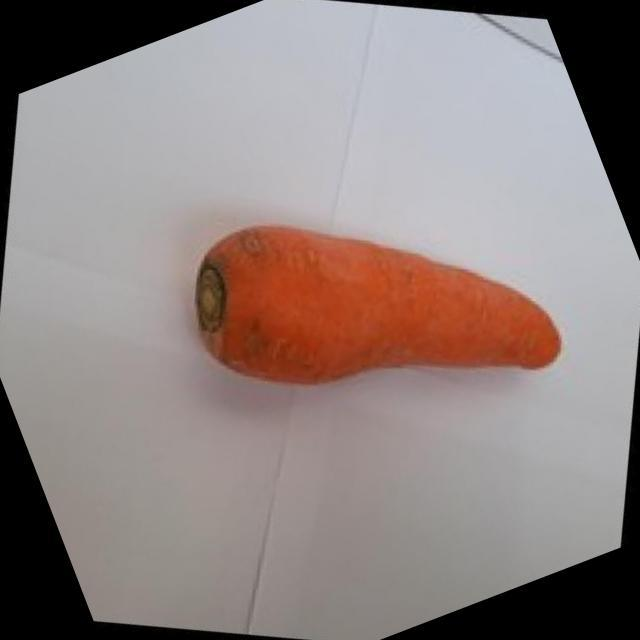carrot: (112, 70, 637, 540)
